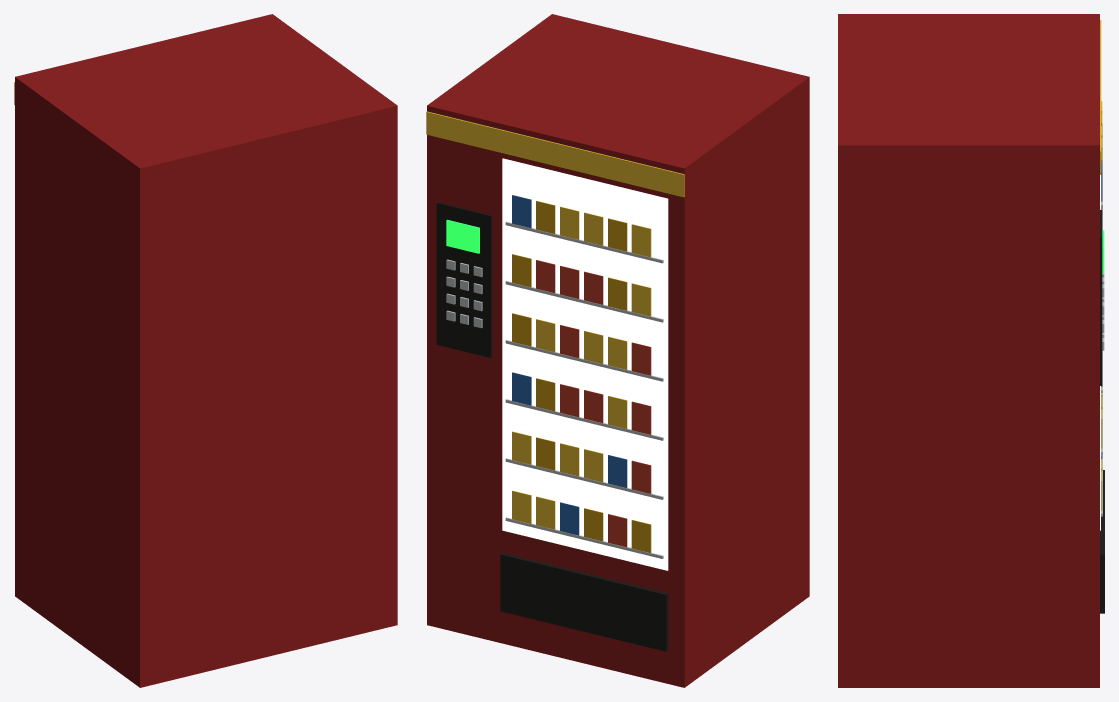
The model's file is SM_80s_VendingMachine.glb.
The picture shows the model from 3 angles, left to right: view 1: azimuth 30°, elevation 25°; view 2: azimuth 150°, elevation 25°; view 3: azimuth 270°, elevation 25°; orthographic projection. The views are drawn at different scales.
Visible parts, largest first — view 1: SM_80s_VendingMachine; view 2: SM_80s_VendingMachine; view 3: SM_80s_VendingMachine.
Part boxes in pixels (bbox=[...]): SM_80s_VendingMachine: bbox=[14, 14, 397, 687]; SM_80s_VendingMachine: bbox=[426, 14, 809, 687]; SM_80s_VendingMachine: bbox=[838, 14, 1104, 687].
Size of the model in its own units: 1.25 by 2.42 by 1.08.
